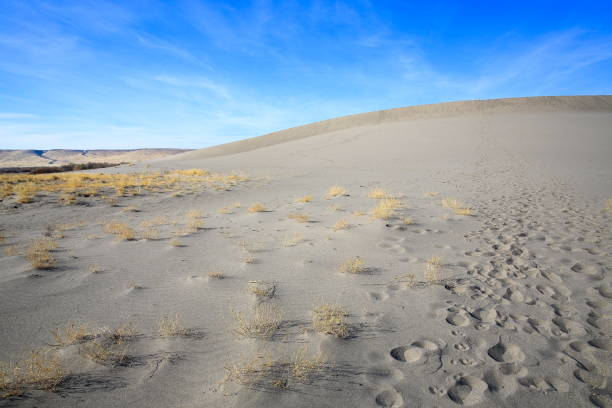human_foot_print: (17, 113, 611, 407), (483, 233, 608, 394), (441, 232, 597, 343), (390, 332, 527, 405), (389, 338, 447, 405), (565, 337, 611, 388), (362, 352, 404, 407), (390, 339, 445, 372), (483, 363, 527, 397), (444, 304, 497, 329), (444, 336, 485, 367), (447, 375, 487, 405), (487, 336, 524, 362), (363, 362, 403, 386), (519, 375, 568, 392), (574, 368, 607, 388), (568, 260, 604, 278), (552, 317, 586, 336), (374, 388, 403, 407), (377, 235, 406, 253), (446, 307, 469, 326), (470, 307, 496, 322), (588, 336, 612, 352), (589, 390, 611, 407), (450, 357, 481, 366), (594, 282, 611, 298), (367, 290, 388, 301), (454, 341, 470, 351)
